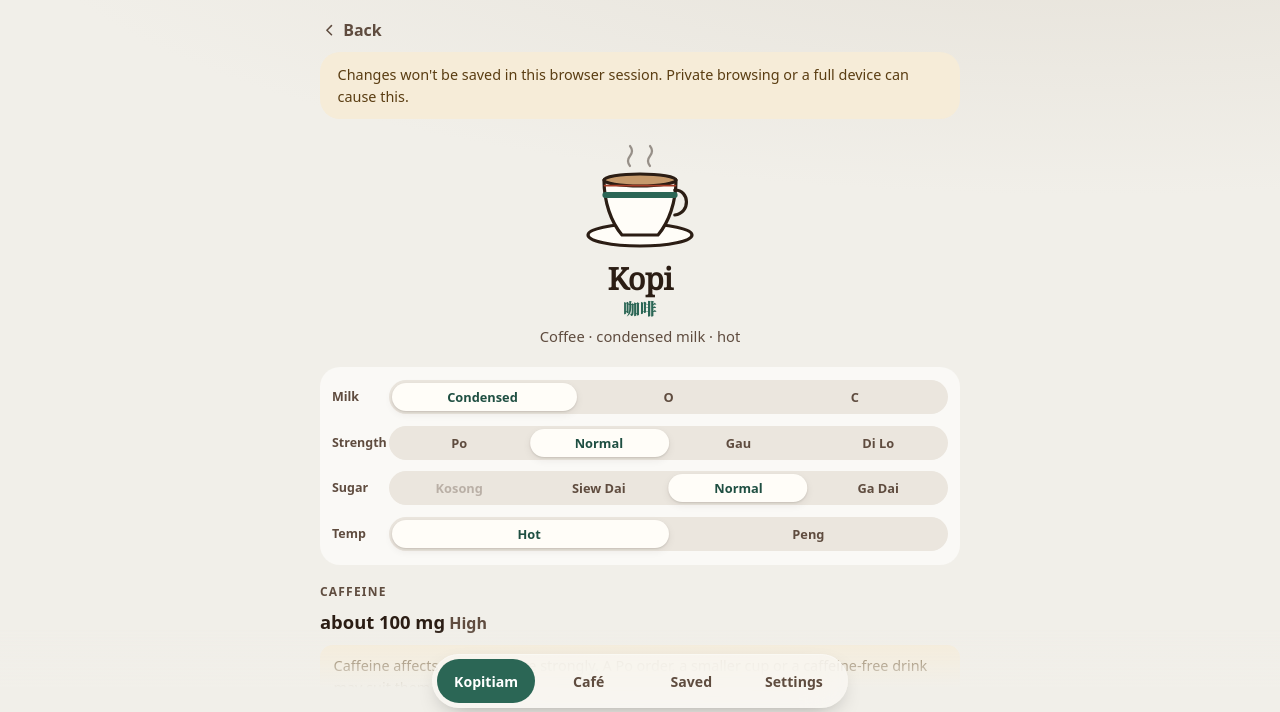
Test: explains each chosen word with a link to Kopitiam words
Expected: the heading "Kopi" is shown, [607,262,672,295]
Step 1. Click the radio button labelled "O" → (669, 397), box [664,388,674,406]
(page scrolled)
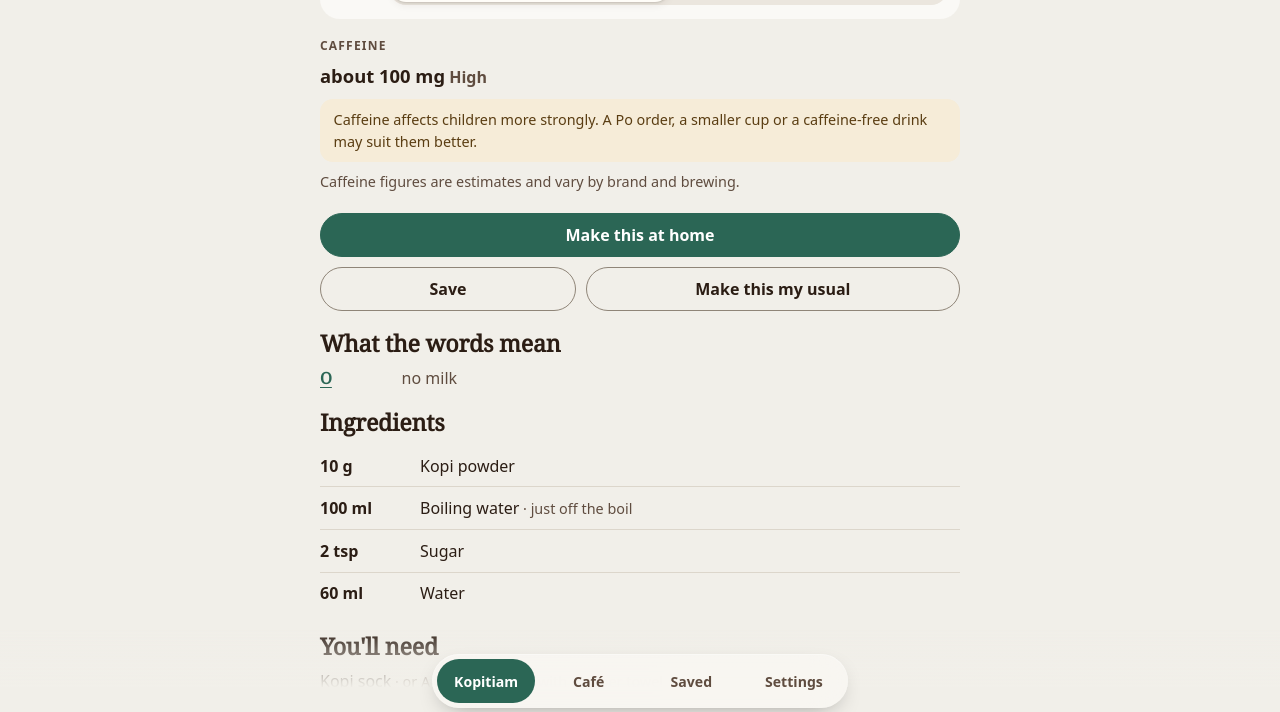
Expected: the element "What the words mean" shows "no milk", [402,367,457,389]
